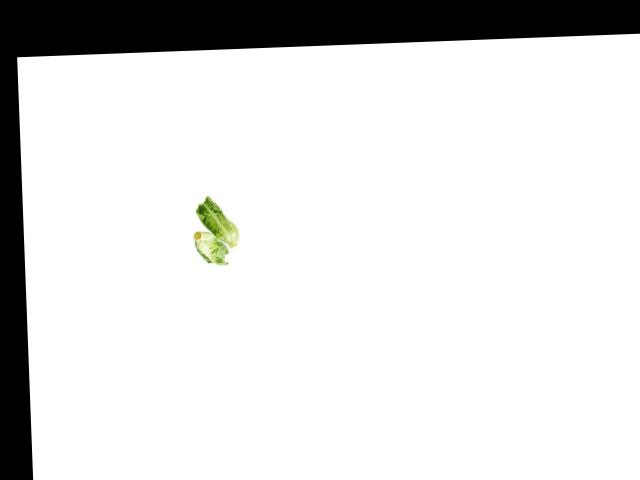lettuce: (184, 197, 241, 268)
